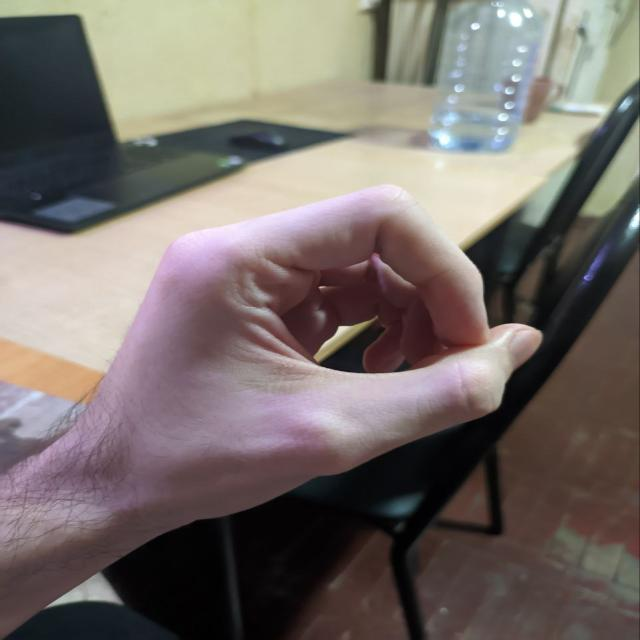e: (80, 175, 559, 523)
